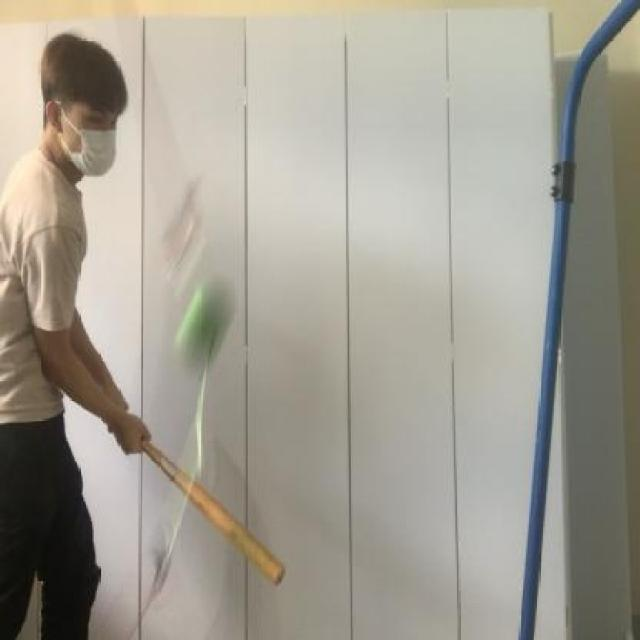baseball: (171, 267, 229, 371)
